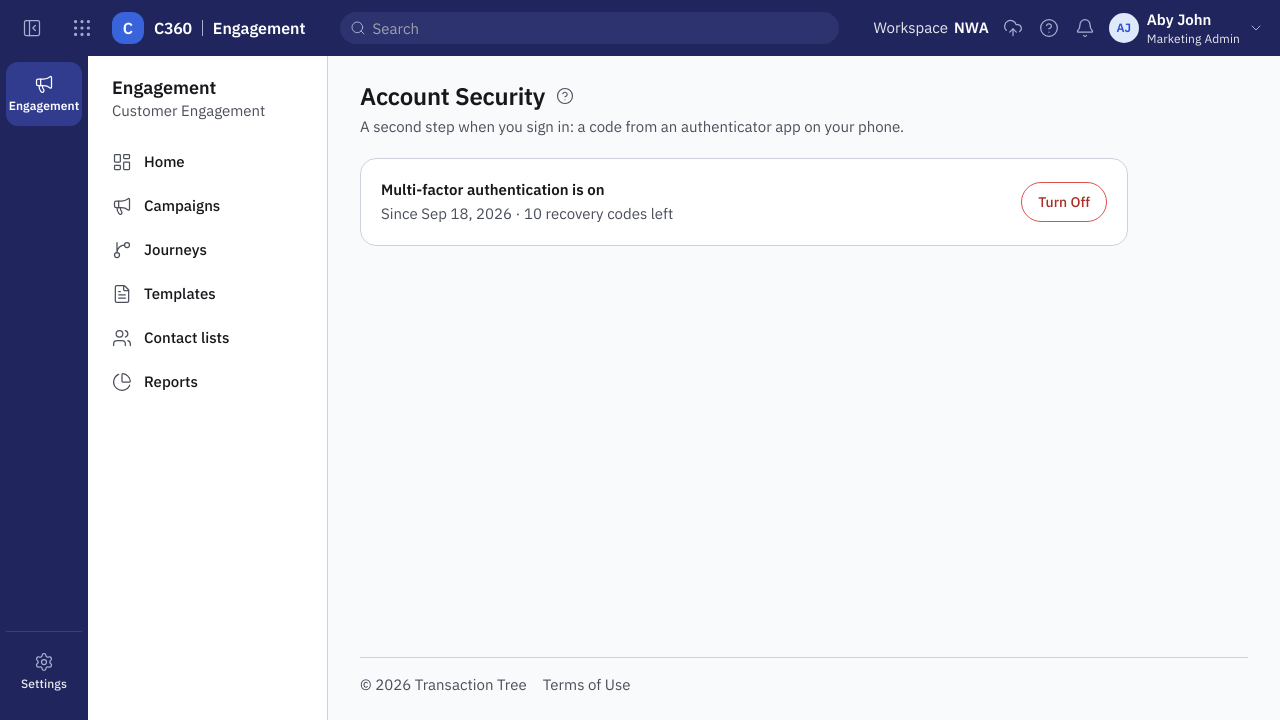
Test: turning off two-step sign-in: a failure that is not about the code says why instead of nothing
Click the button "Turn Off" at (1064, 202), box [1021, 182, 1107, 222]
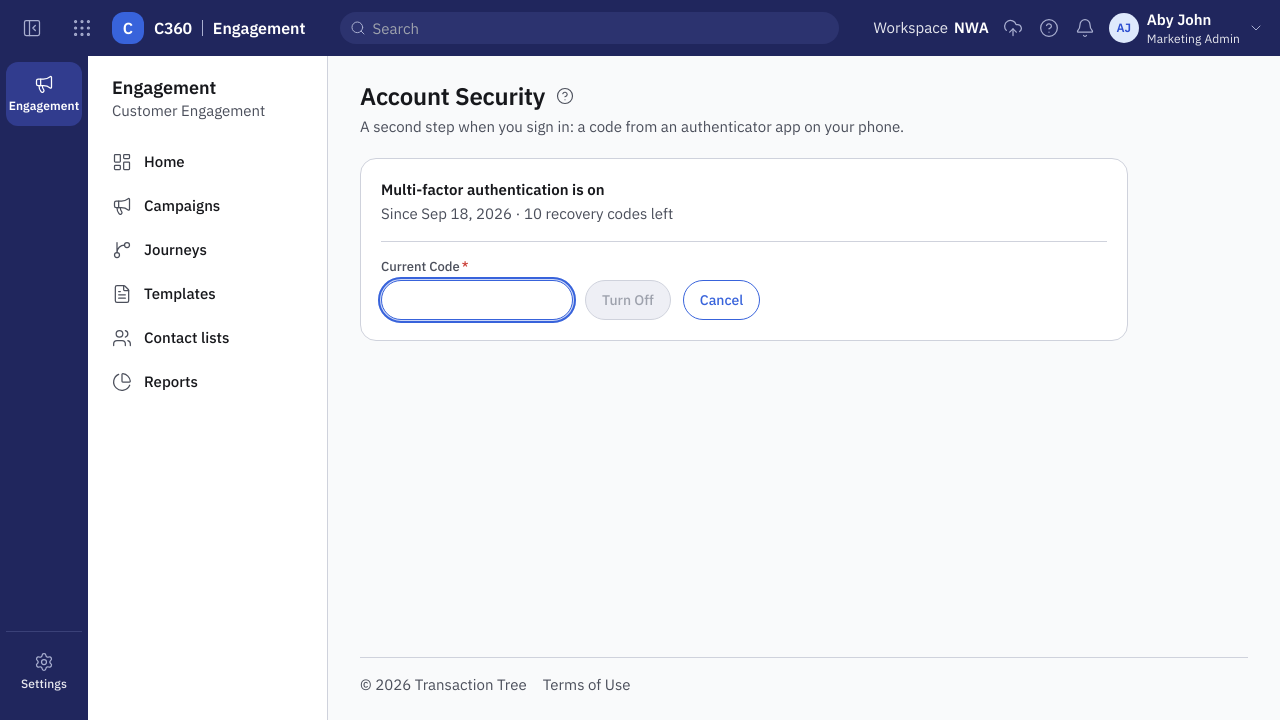
Type "123456" into the field labelled "Current Code*" at (477, 300), box [381, 280, 573, 320]
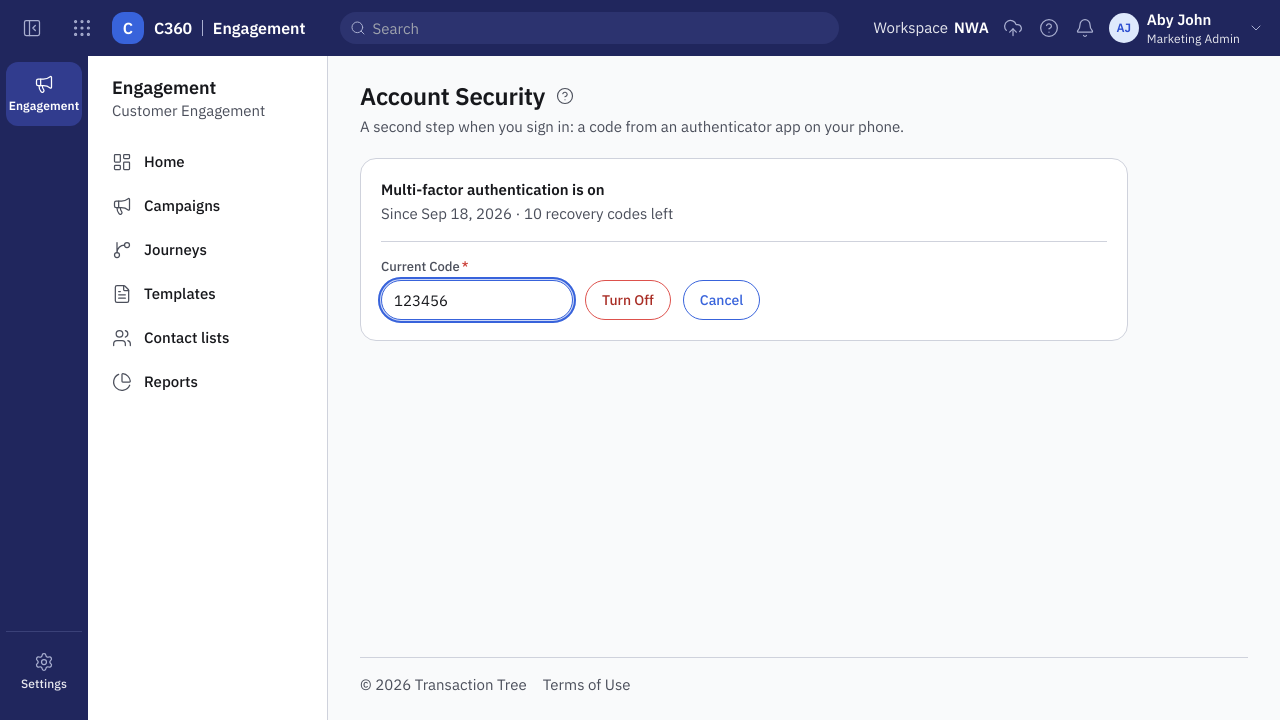
Click the button "Turn Off" at (628, 300), box [585, 280, 671, 320]
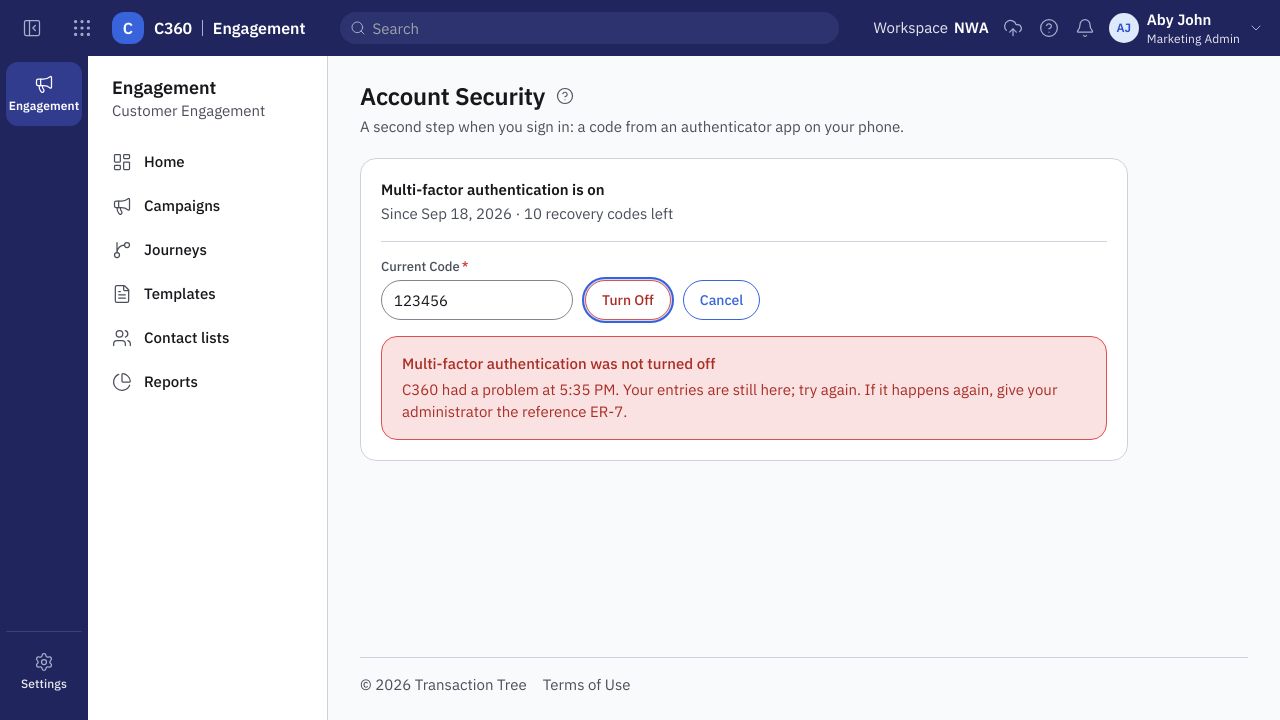
Expected: the text "Multi-factor authentication was not turned off" shows "ER-7", [402, 380, 1057, 421]
